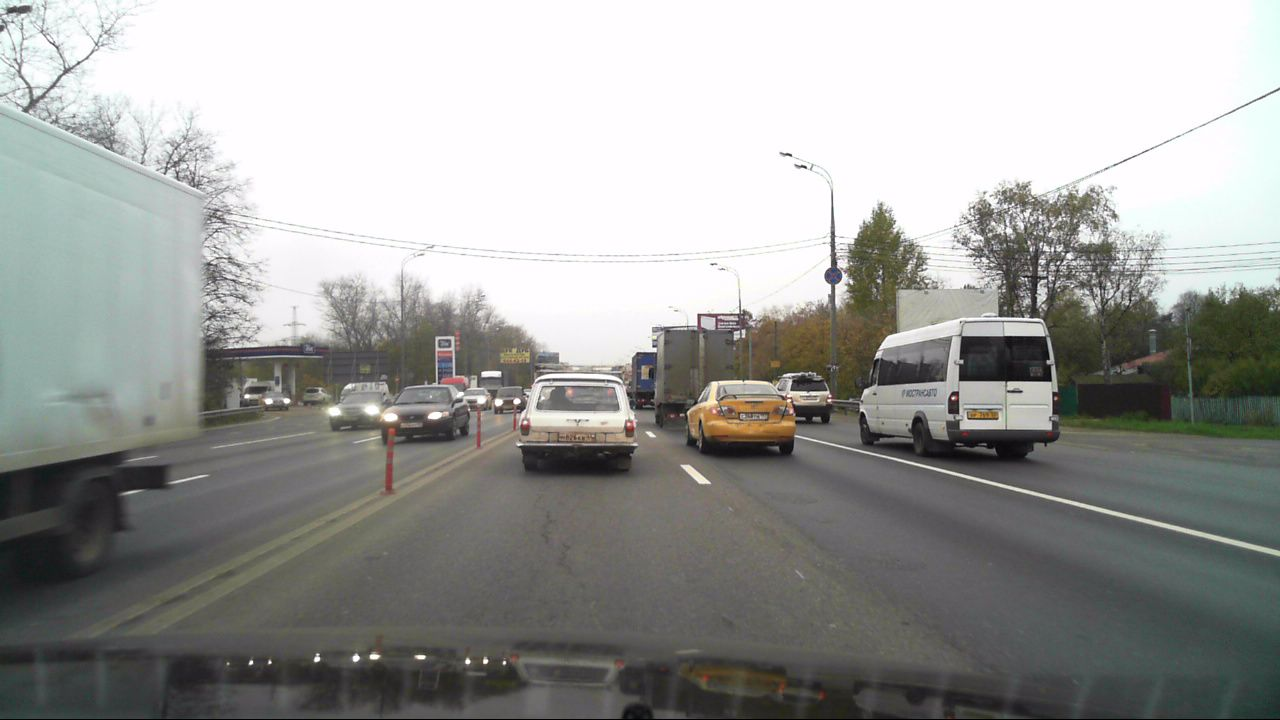No Parking: (824, 268, 841, 284)
